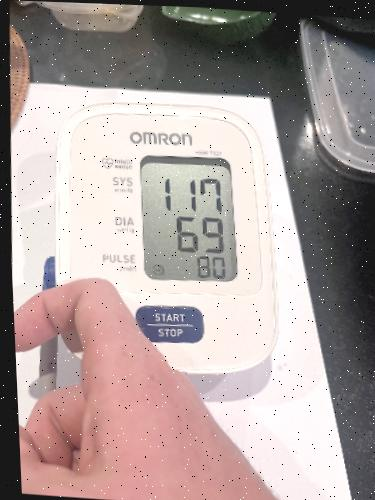bpm: (138, 151, 239, 284)
